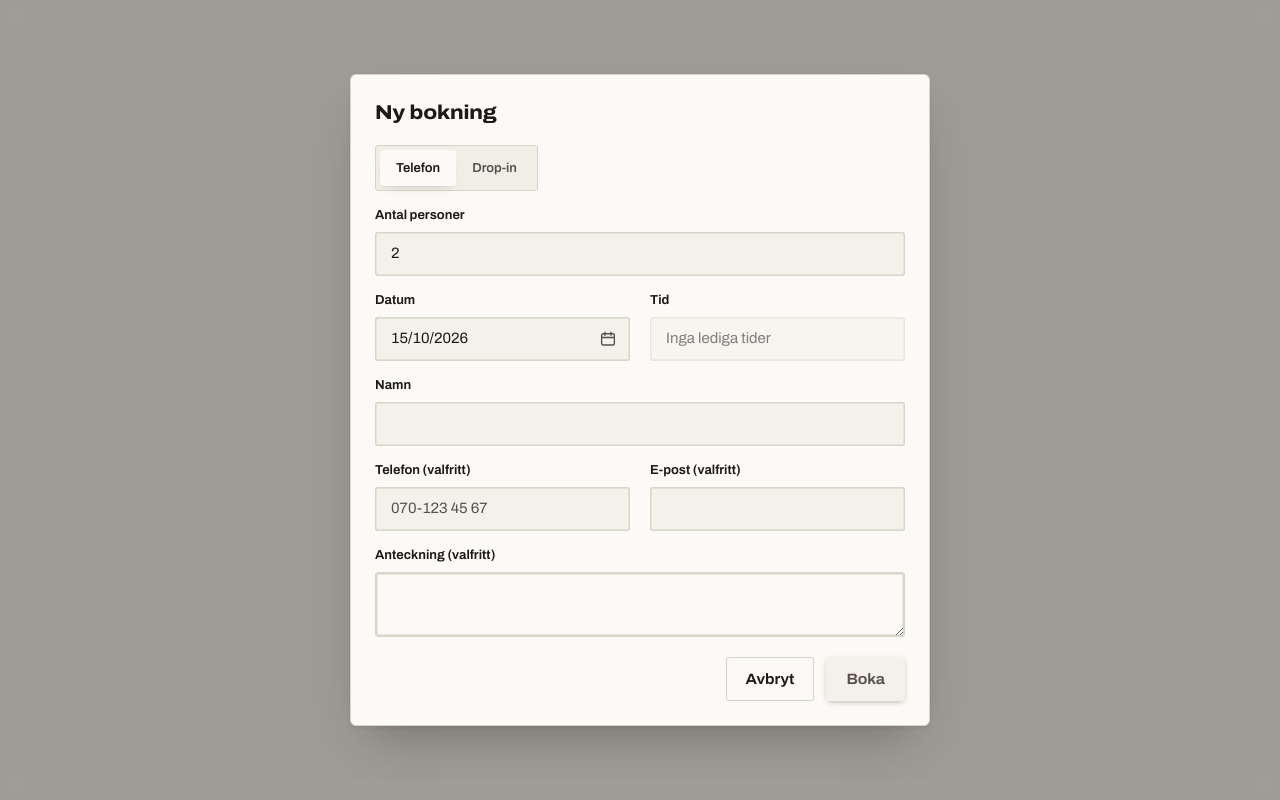
Test: time rules in the forms › a drop-in is booked today and the date cannot be changed
Click the radio button labelled "Drop-in": (495, 168) [456, 150, 533, 186]
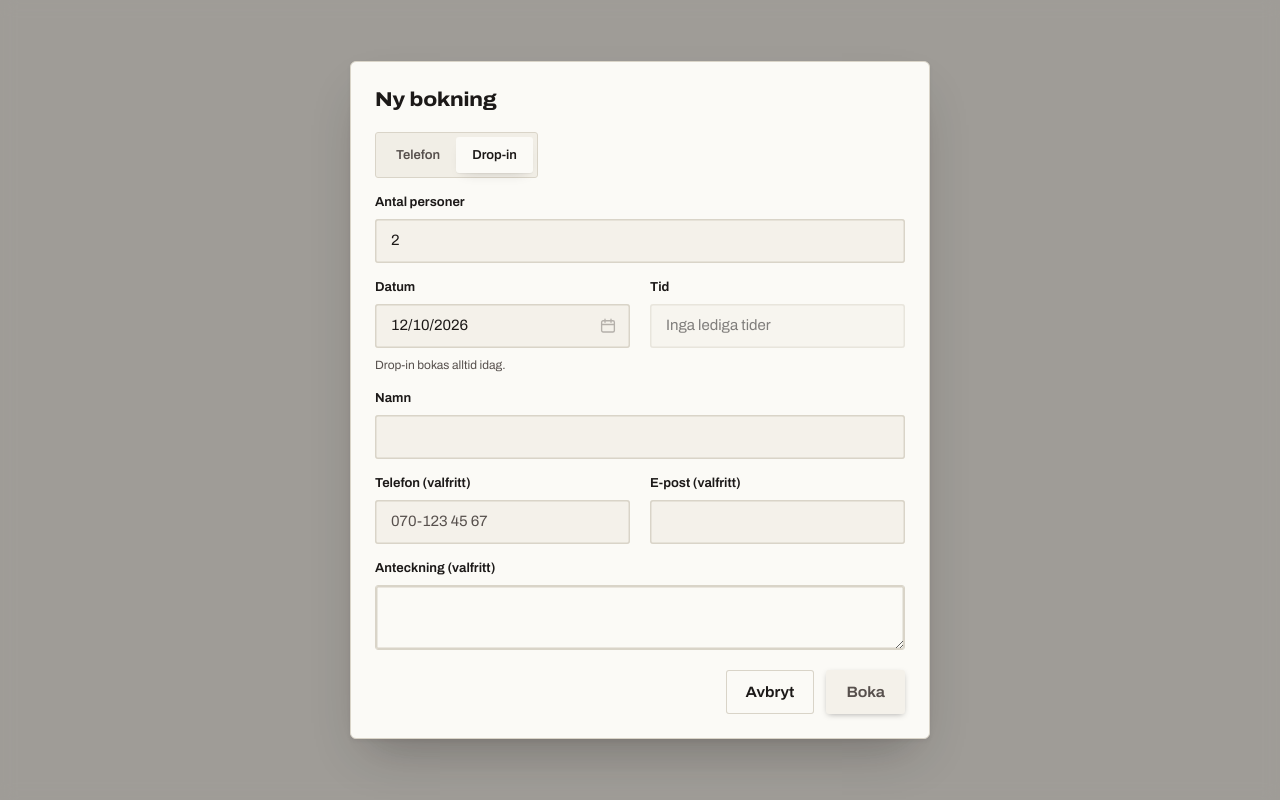
Expected: the field labelled "Datum" is disabled, [375, 304, 630, 348]
